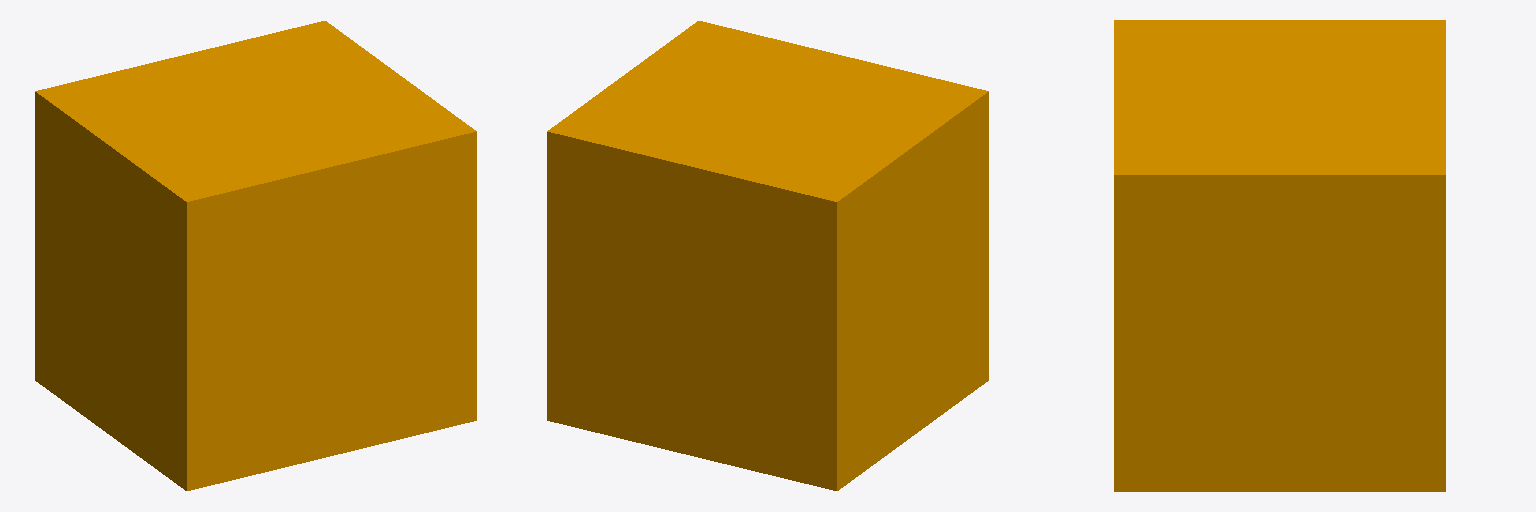
URDF robot description (object):
<robot name="object">
  <link name="object">
    <visual>
      <origin xyz="0 0 0" />
      <geometry>
        <box size="0.08400000000000002 0.07600000000000001 0.08" />
      </geometry>
    </visual>

    <collision>
      <origin xyz="0 0 0" />
      <geometry>
        <box size="0.08400000000000002 0.07600000000000001 0.08" />
      </geometry>
    </collision>

    <inertial>
      <mass value="0.05" />
      <inertia ixx="0.0001" ixy="0.0" ixz="0.0" iyy="0.0001" iyz="0.0" izz="0.0001" />
    </inertial>
  </link>
</robot>

--- Facts derived from the render (not from the file) ---
The picture shows the robot from 3 angles, left to right: view 1: azimuth 30°, elevation 25°; view 2: azimuth 150°, elevation 25°; view 3: azimuth 270°, elevation 25°; orthographic projection.
Robot: object — 1 links, 0 joints (none); root link object; default pose: every joint at zero.
Visible links, largest first — view 1: object; view 2: object; view 3: object.
Link boxes in pixels (left/top/right/bottom): object: left=35, top=21, right=476, bottom=490; object: left=547, top=21, right=988, bottom=490; object: left=1114, top=20, right=1445, bottom=491.
Bounding box of the posed robot: 0.084 × 0.076 × 0.08 m (x, y, z).
Geometry: primitives only (box / cylinder / sphere), no mesh files.